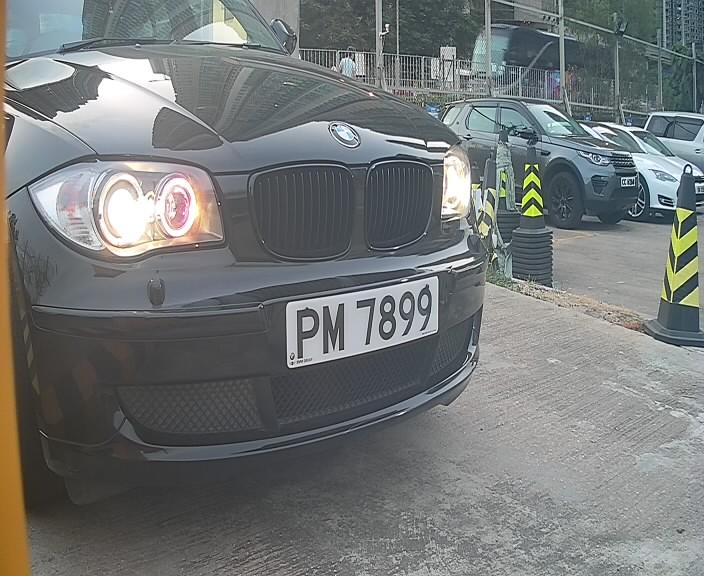License Plate: (274, 271, 444, 373)
